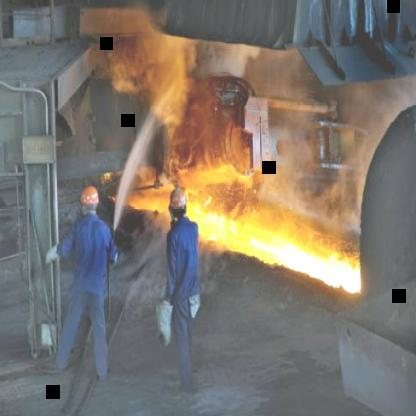helmet: (80, 185, 102, 221), (170, 185, 188, 225)
